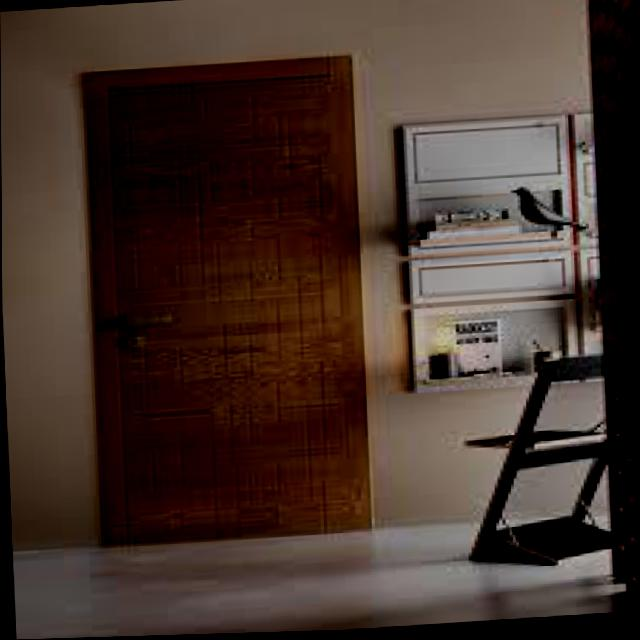close: (64, 24, 394, 568)
